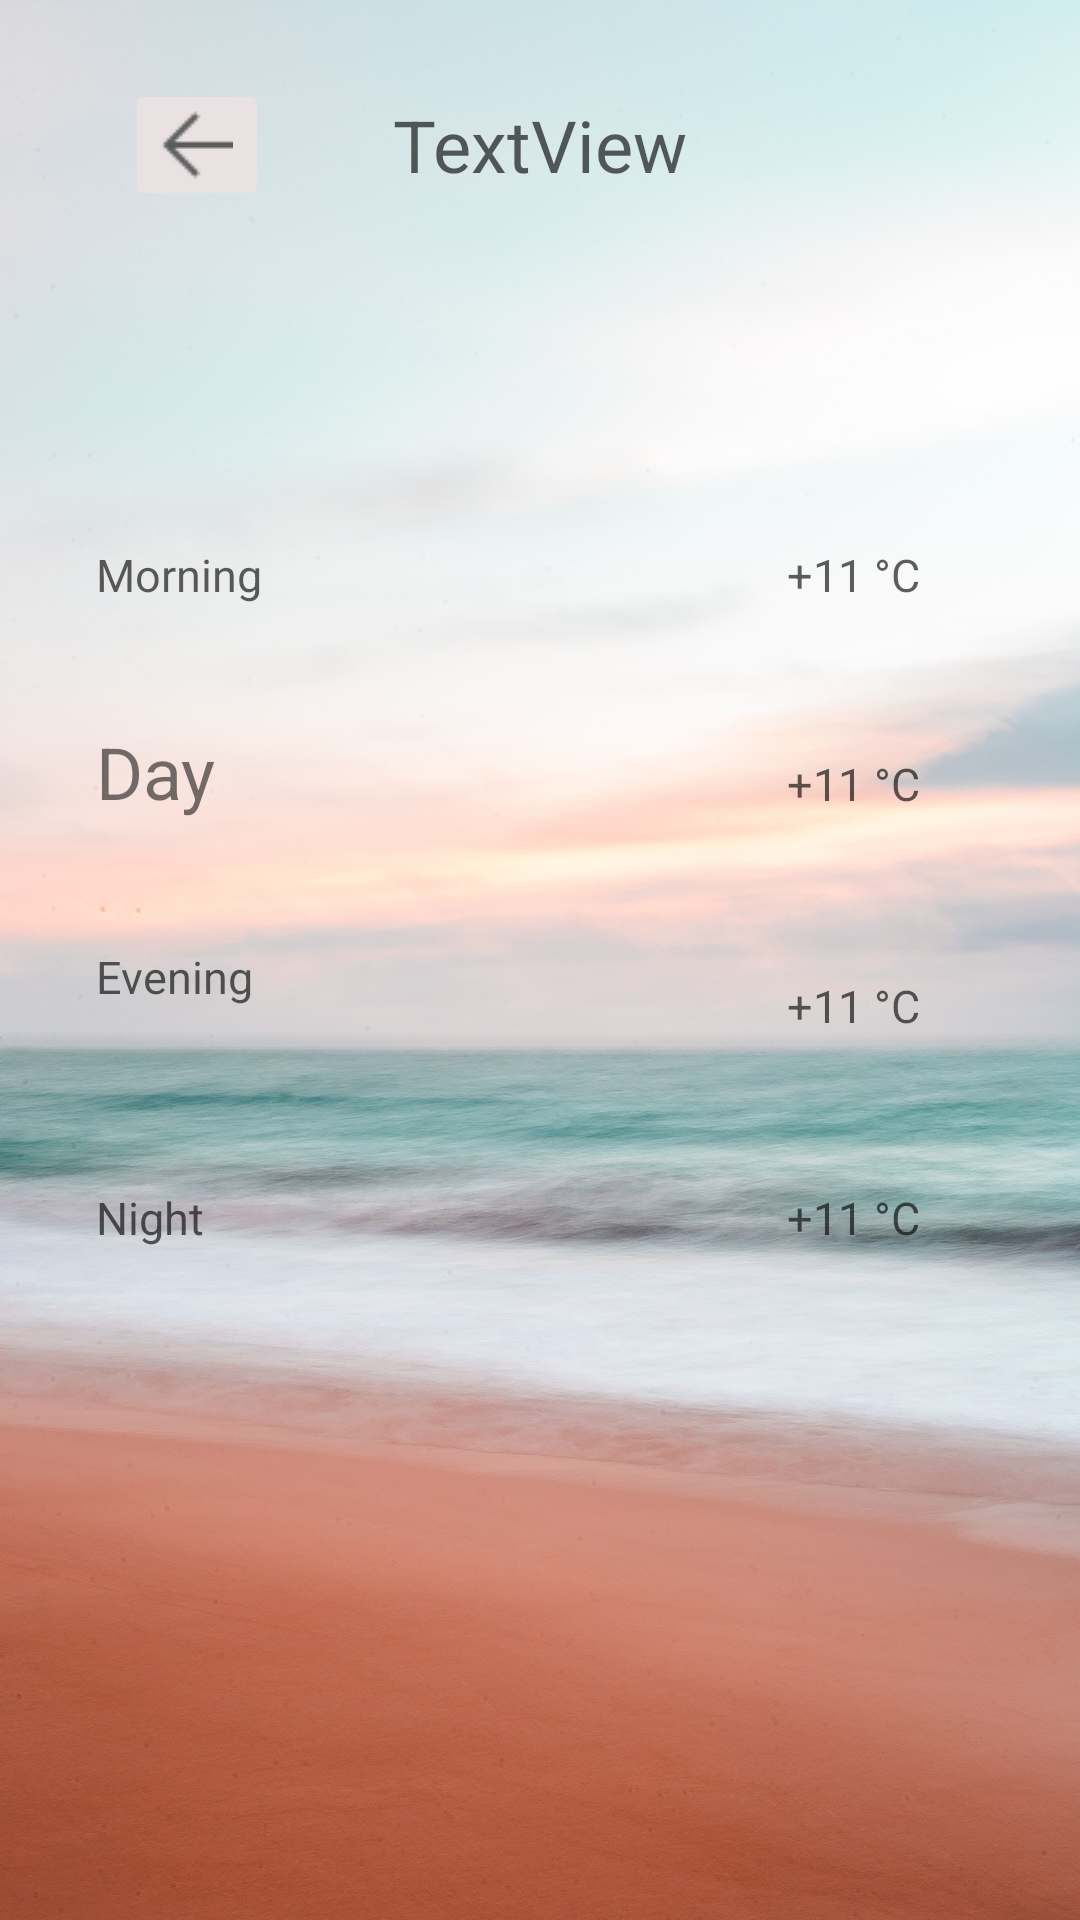

Icon bounding boxes for this 1080×1920 phone screenshot, format (x1, y1, x2, y2):
left: (137, 97, 257, 193)
